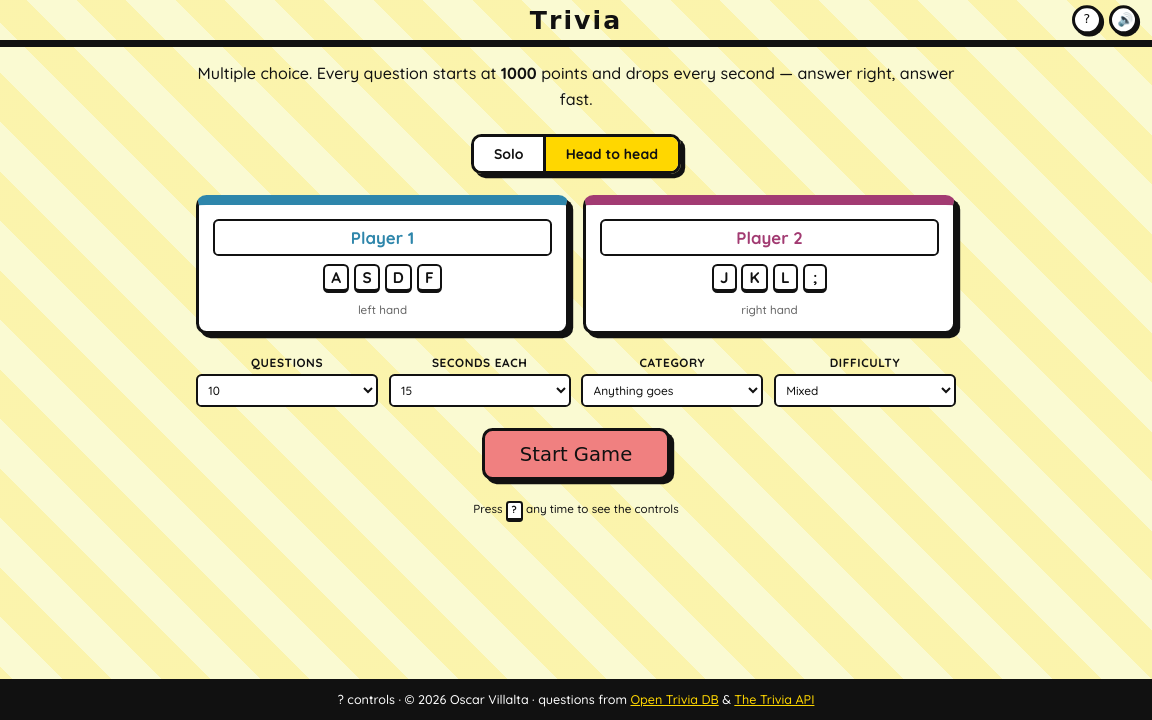
Test: solo › accepts the number keys
The width and height of the screenshot is (1152, 720).
Click the button "Solo". click: (509, 154)
box: [474, 137, 543, 172]
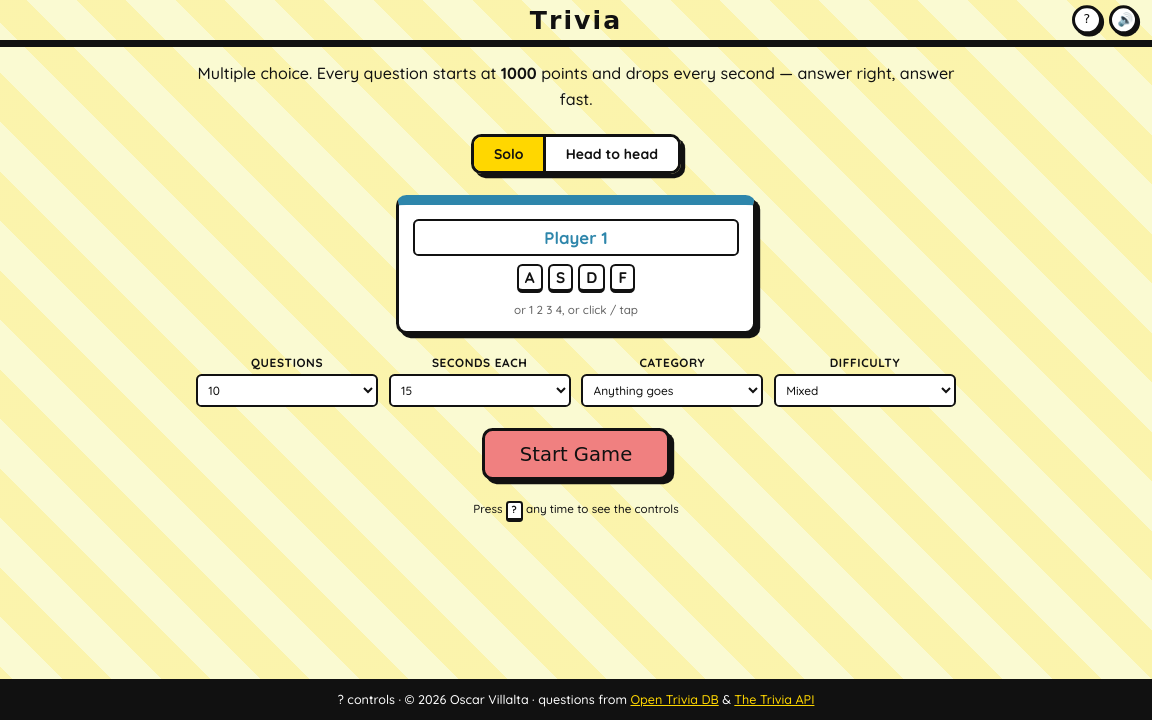
Click the button "Start Game". click: (576, 454)
box: [482, 428, 670, 480]
Wait 3000 ms
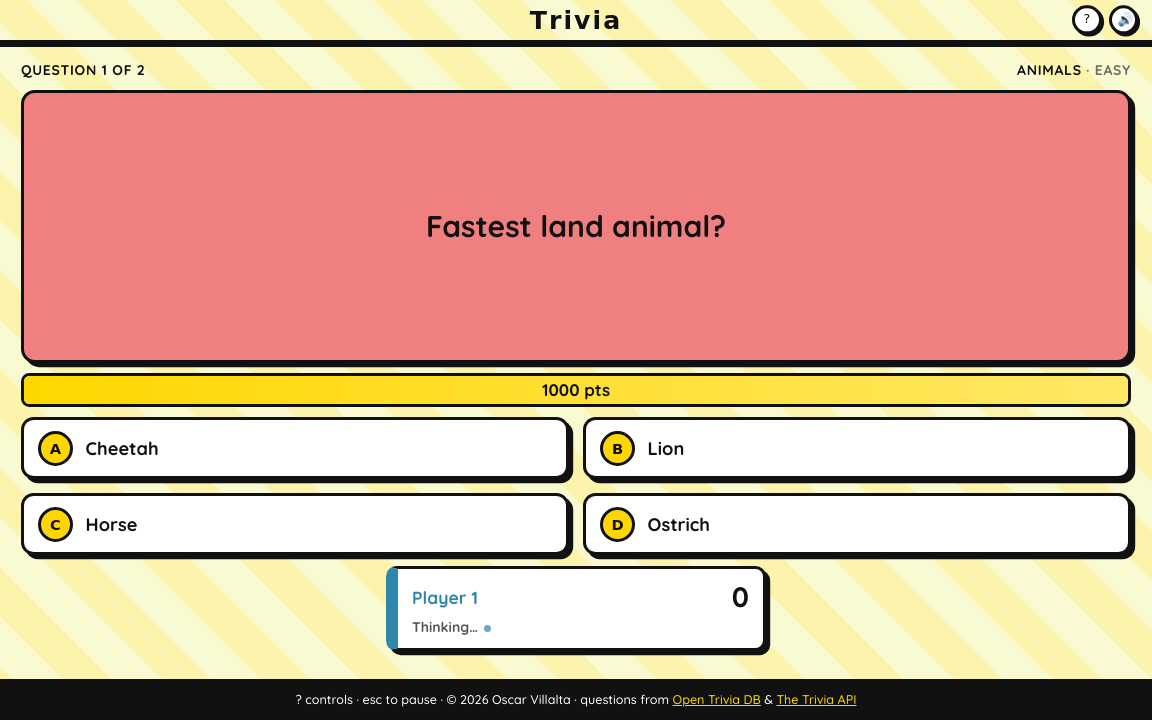
Press Digit2
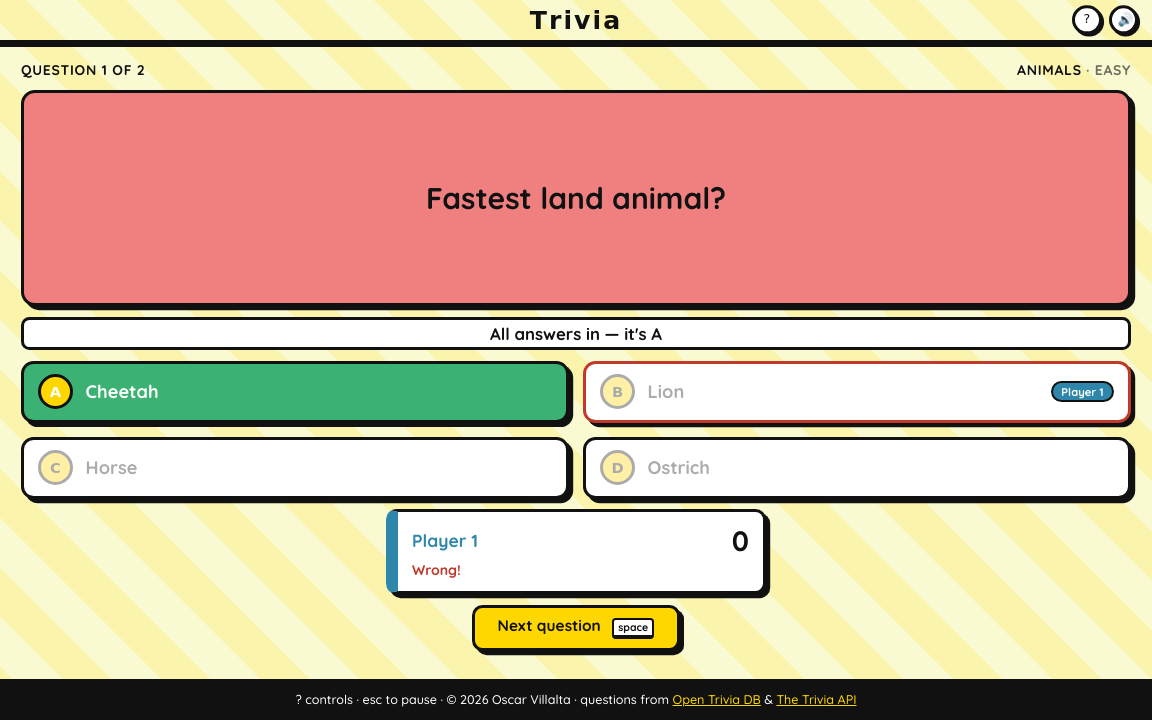
Expected: the text "Wrong!" is shown, [412, 561, 461, 579]
